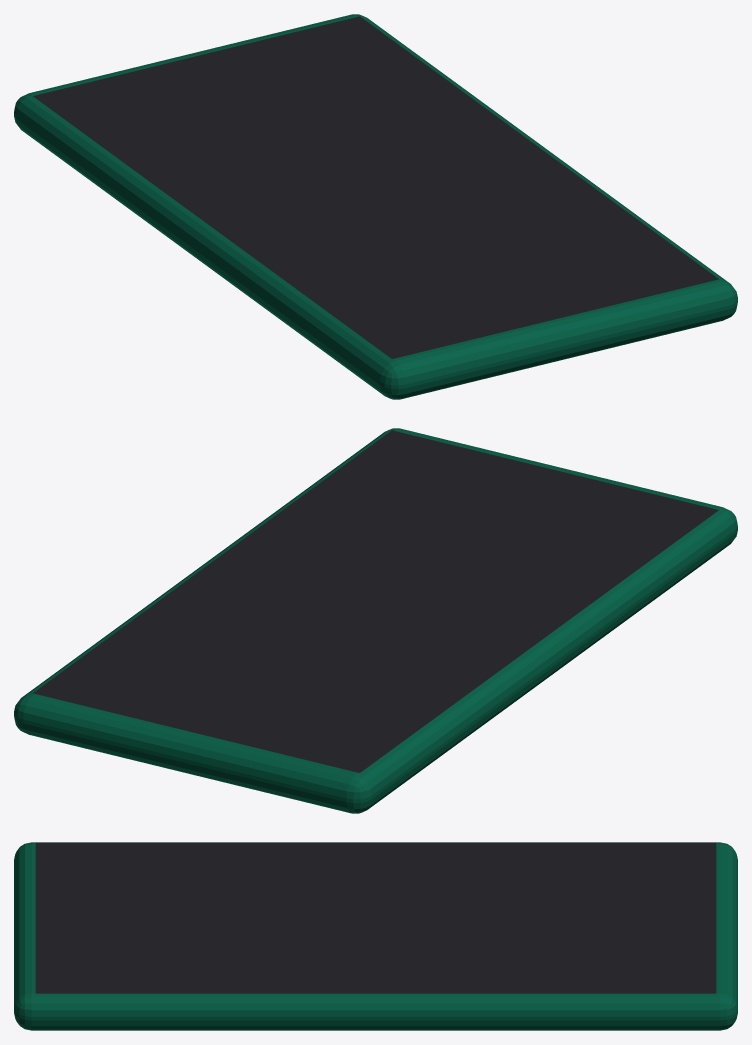
The model's file is Phone_816.glb.
3 views of the same model, one above another, from view 1: azimuth 30°, elevation 25°; view 2: azimuth 150°, elevation 25°; view 3: azimuth 270°, elevation 25° (orthographic). The views are drawn at different scales.
Parts seen in each view (by area): view 1: Phone_Screen, Phone_Body; view 2: Phone_Screen, Phone_Body; view 3: Phone_Screen, Phone_Body.
Part boxes in pixels (x1,y1,x2,y2): Phone_Screen: (33, 16, 718, 358); Phone_Body: (14, 14, 737, 399); Phone_Screen: (33, 430, 718, 772); Phone_Body: (14, 428, 737, 813); Phone_Screen: (35, 842, 716, 993); Phone_Body: (14, 842, 737, 1030).
Bounding box in the file's own units: 0.0782 × 0.008 × 0.1456.
